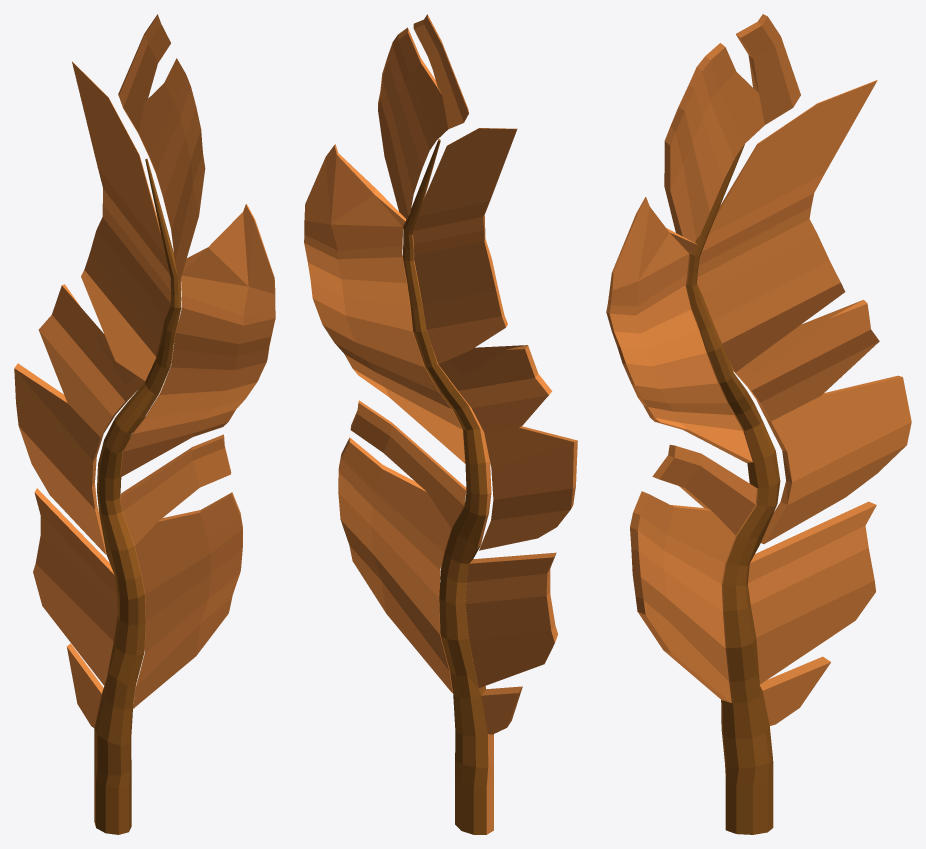
File: tree.glb
The picture shows the model from 3 angles, left to right: view 1: azimuth 30°, elevation 25°; view 2: azimuth 210°, elevation 25°; view 3: azimuth 270°, elevation 25°; orthographic projection. The views are drawn at different scales.
Visible parts, largest first — view 1: Cylinder, Cylinder.002, Cylinder.003, Cylinder.001, Cylinder.004; view 2: Cylinder, Cylinder.002, Cylinder.003, Cylinder.001, Cylinder.004; view 3: Cylinder, Cylinder.003, Cylinder.001, Cylinder.002, Cylinder.004.
Boxes of the visible parts, box(x1,y1,x2,y2) form: Cylinder: box(14, 61, 170, 728); Cylinder.002: box(120, 204, 275, 476); Cylinder.003: box(120, 434, 242, 708); Cylinder.001: box(94, 158, 181, 834); Cylinder.004: box(118, 14, 205, 283); Cylinder: box(413, 128, 577, 734); Cylinder.002: box(304, 144, 465, 463); Cylinder.003: box(338, 400, 466, 693); Cylinder.001: box(402, 139, 493, 834); Cylinder.004: box(378, 14, 468, 226); Cylinder: box(697, 80, 911, 725); Cylinder.003: box(630, 444, 757, 702); Cylinder.001: box(685, 144, 780, 834); Cylinder.002: box(606, 197, 752, 462); Cylinder.004: box(664, 14, 800, 242).
Bounding box in the file's own units: 1.5 × 8.98 × 2.96.
